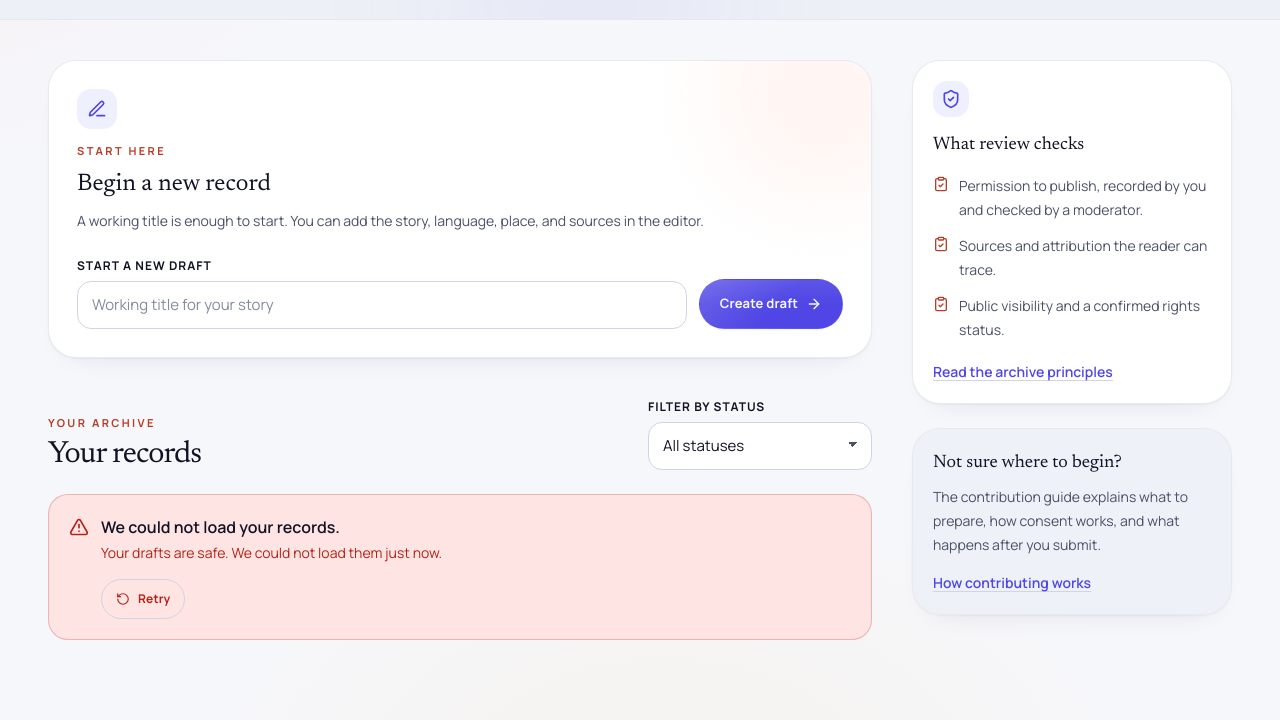
Test: DashboardPage › shows an error state with a working retry
(page scrolled)
Expected: the message shows "could not load your records", [101,516,340,538]
Click the button "Retry" at (143, 599), box [101,579,185,619]
(page scrolled)
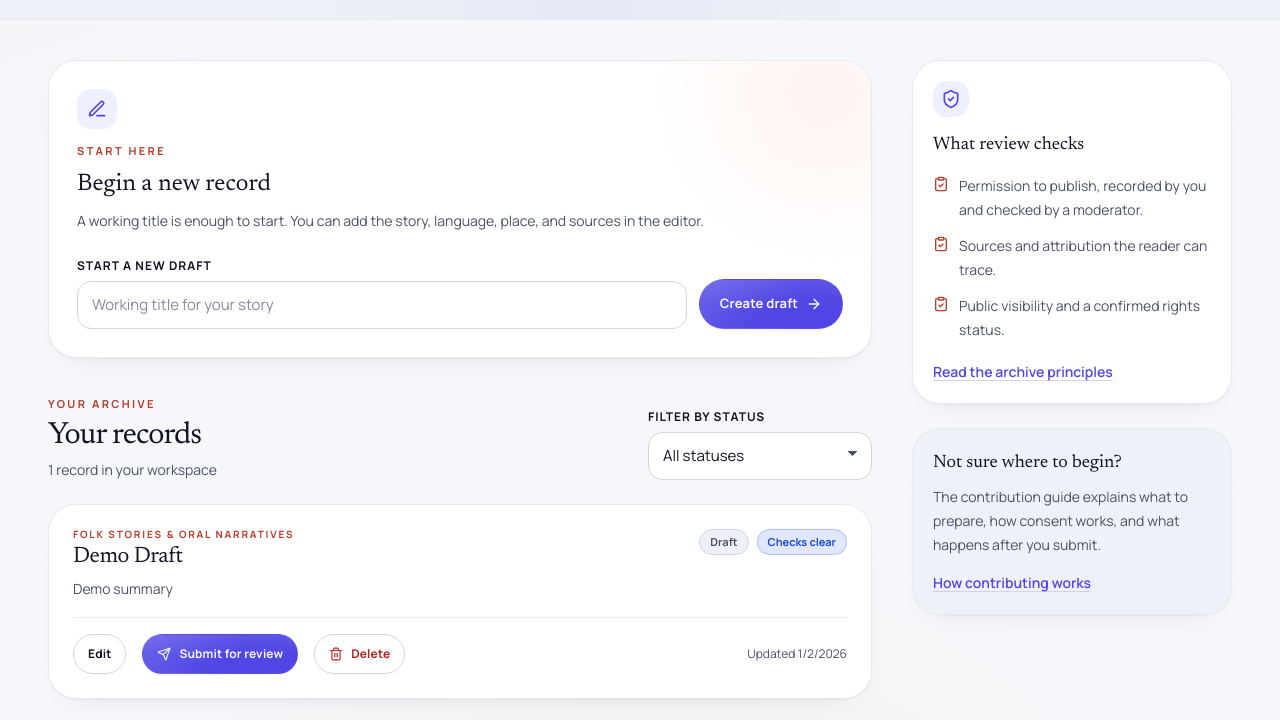
Result: the link "Demo Draft" is shown at [73,546,183,568]
